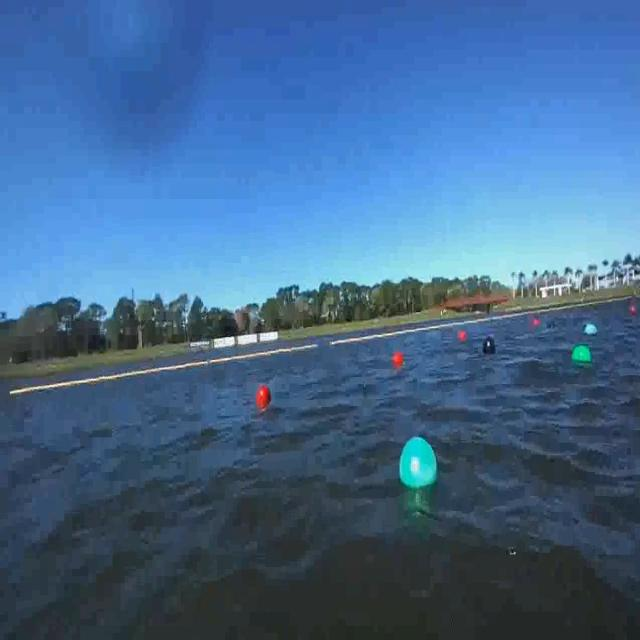black-buoy: (483, 337, 497, 356)
green-buoy: (399, 436, 438, 489), (571, 344, 591, 364)
red-buoy: (259, 383, 273, 407), (392, 351, 403, 368), (459, 332, 467, 344)
